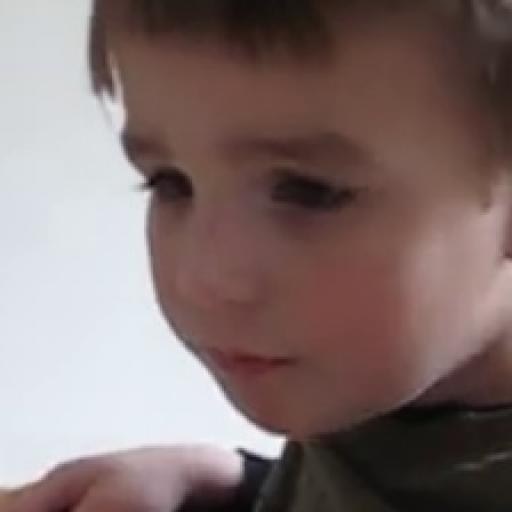Autism: (102, 18, 512, 483)
